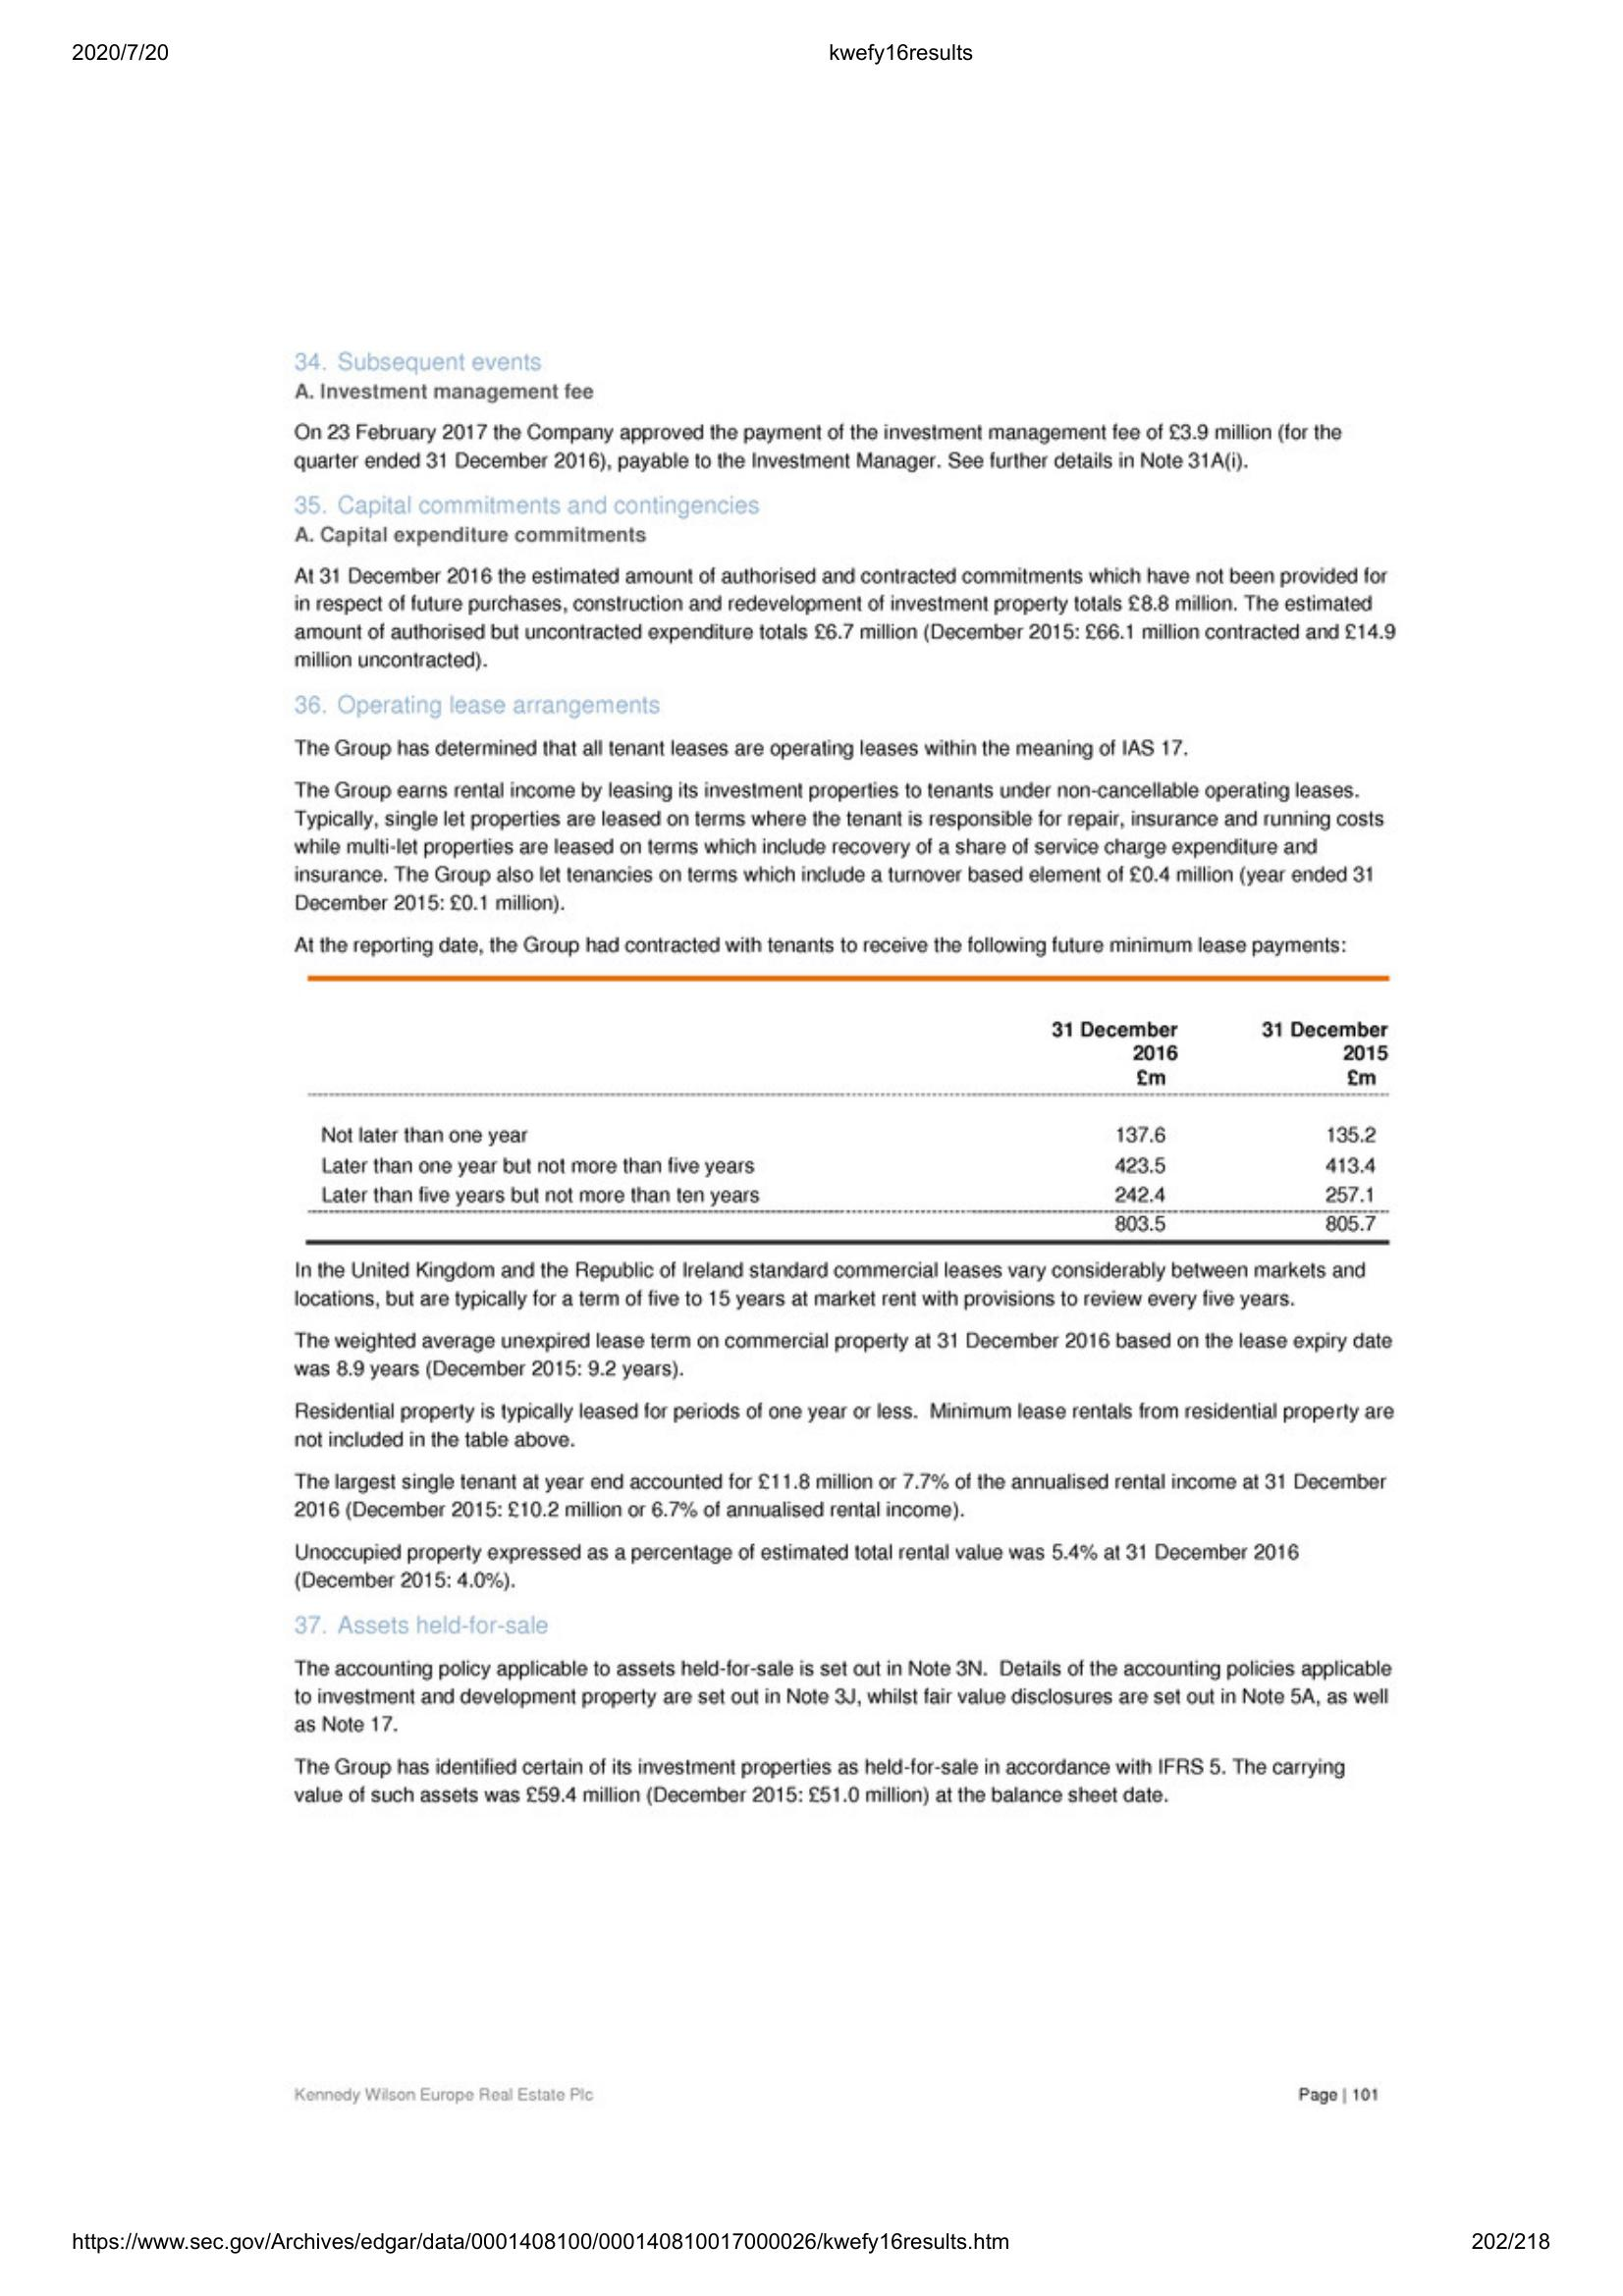table: (297, 972, 1400, 1255)
